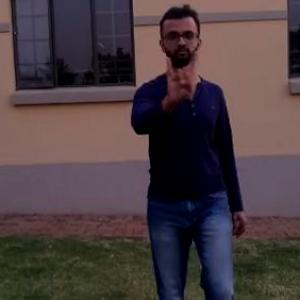takeoff-hand: (152, 44, 203, 105)
